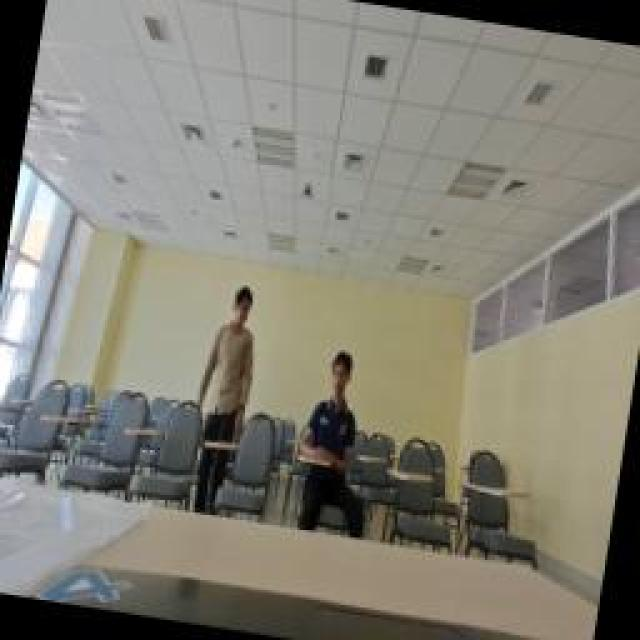study: (285, 345, 390, 540)
